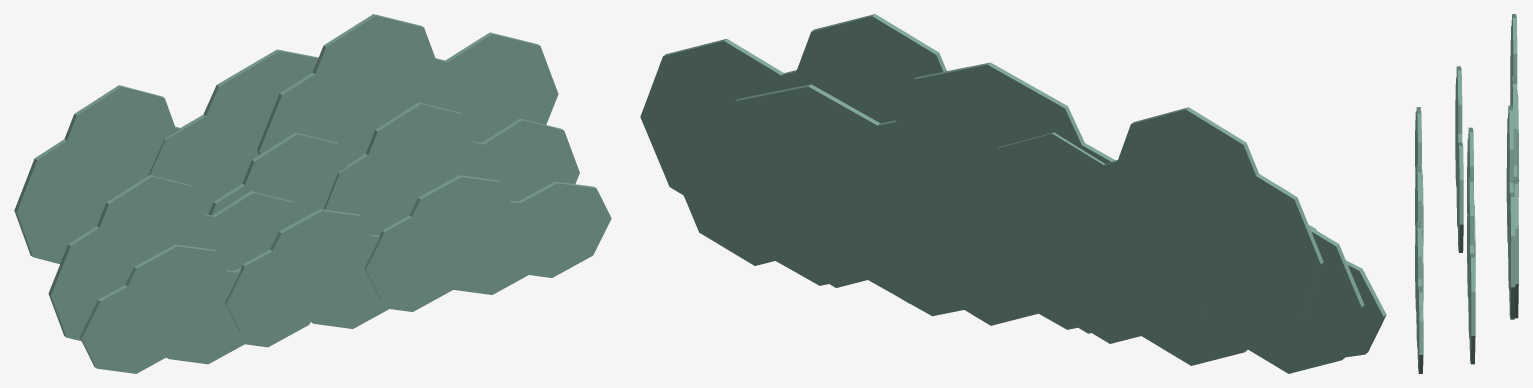
File: Envy_clouds.fbx
The picture shows the model from 3 angles, left to right: view 1: azimuth 30°, elevation 25°; view 2: azimuth 150°, elevation 25°; view 3: azimuth 270°, elevation 25°; orthographic projection. The views are drawn at different scales.
Visible parts, largest first — view 1: pCylinder13, pCylinder7, pCylinder8, pCylinder10, pCylinder11, pCylinder6, pCylinder14, pCylinder12, pCylinder9; view 2: pCylinder12, pCylinder11, pCylinder13, pCylinder10, pCylinder8, pCylinder6, pCylinder9; view 3: pCylinder13, pCylinder10, pCylinder8, pCylinder12, pCylinder7, pCylinder11, pCylinder6, pCylinder14, pCylinder9.
Part boxes in pixels (x1=…): pCylinder13: x1=257, y1=14, x2=558, y2=164; pCylinder7: x1=364, y1=175, x2=611, y2=304; pCylinder8: x1=323, y1=102, x2=579, y2=235; pCylinder10: x1=48, y1=175, x2=301, y2=341; pCylinder11: x1=14, y1=85, x2=180, y2=264; pCylinder6: x1=79, y1=244, x2=309, y2=373; pCylinder14: x1=225, y1=209, x2=452, y2=338; pCylinder12: x1=148, y1=49, x2=318, y2=214; pCylinder9: x1=208, y1=132, x2=347, y2=218; pCylinder12: x1=707, y1=62, x2=1127, y2=329; pCylinder11: x1=977, y1=107, x2=1323, y2=335; pCylinder13: x1=640, y1=14, x2=946, y2=225; pCylinder10: x1=1092, y1=190, x2=1364, y2=373; pCylinder8: x1=684, y1=196, x2=867, y2=287; pCylinder6: x1=1309, y1=225, x2=1386, y2=357; pCylinder9: x1=904, y1=298, x2=1134, y2=333; pCylinder13: x1=1506, y1=105, x2=1515, y2=319; pCylinder10: x1=1455, y1=66, x2=1463, y2=252; pCylinder8: x1=1467, y1=177, x2=1475, y2=364; pCylinder12: x1=1510, y1=76, x2=1518, y2=318; pCylinder7: x1=1415, y1=221, x2=1423, y2=373; pCylinder11: x1=1510, y1=14, x2=1518, y2=197; pCylinder6: x1=1415, y1=107, x2=1423, y2=245; pCylinder14: x1=1415, y1=165, x2=1423, y2=301; pCylinder9: x1=1467, y1=127, x2=1475, y2=286.
Bounding box in the file's own units: 6.55 × 2.92 × 1.31.
